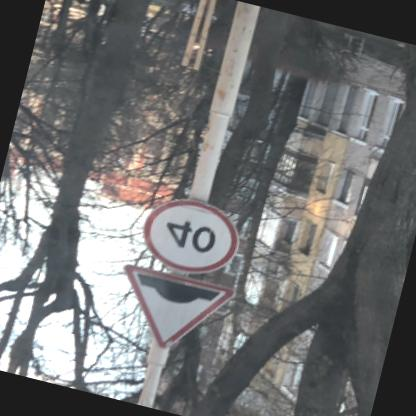speedlimit: (132, 190, 244, 284)
